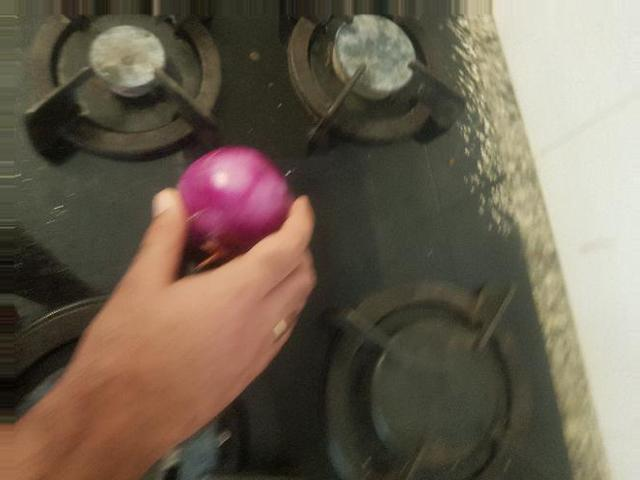onion: (172, 147, 293, 266)
